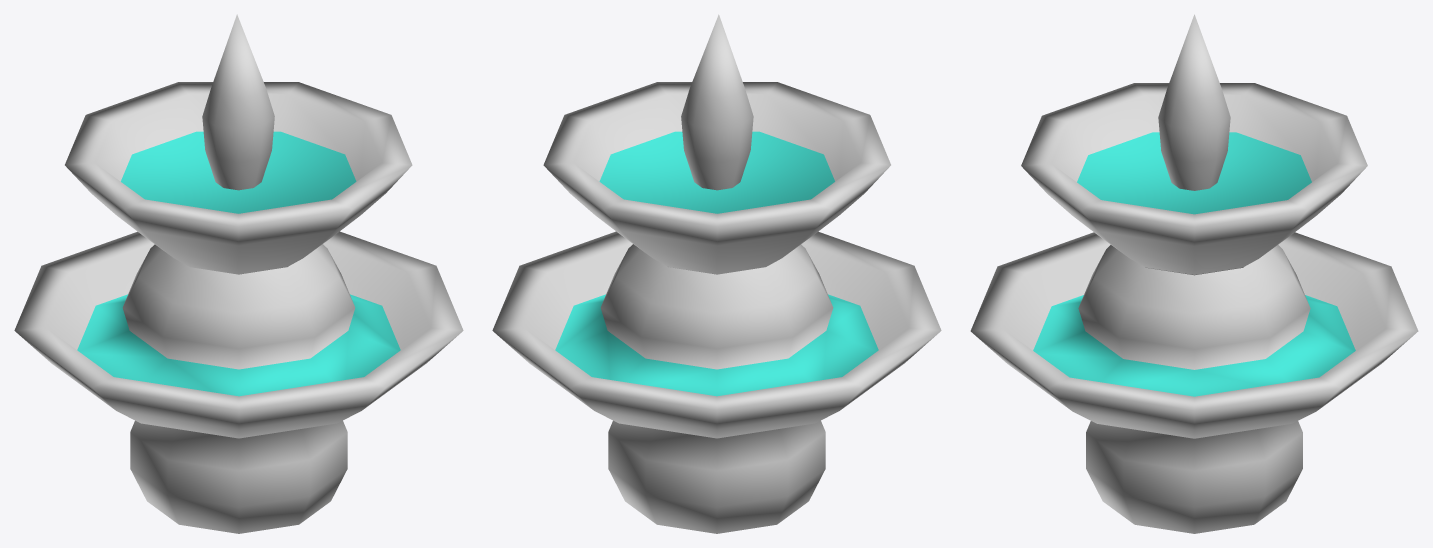
Rendered from Fontaine1.fbx.
The picture shows the model from 3 angles, left to right: view 1: azimuth 30°, elevation 25°; view 2: azimuth 150°, elevation 25°; view 3: azimuth 270°, elevation 25°; orthographic projection.
Parts seen in each view (by area): view 1: Plane; view 2: Plane; view 3: Plane.
Boxes of the visible parts, x1=… form: Plane: x1=14, y1=14, x2=463, y2=533; Plane: x1=492, y1=14, x2=941, y2=533; Plane: x1=970, y1=14, x2=1418, y2=533.
Bounding box in the file's own units: 577 × 692 × 586.
